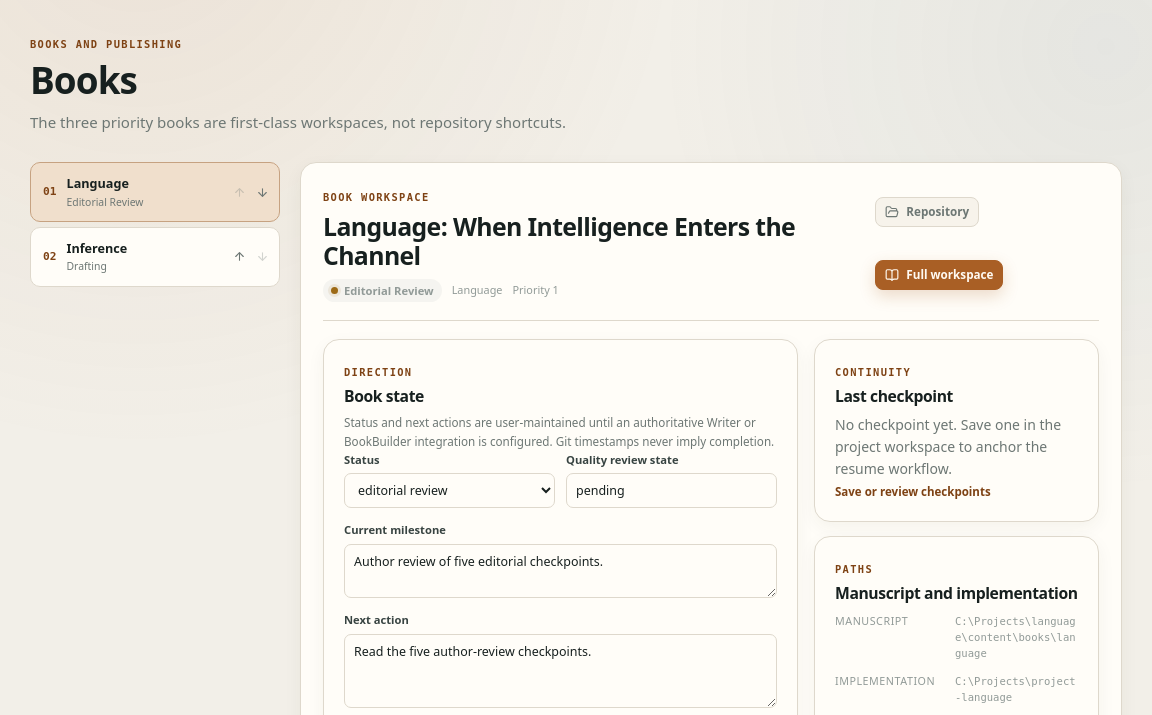
Test: BooksPage › selects a book and shows its persisted workspace
Expected: the heading "Language: When Intelligence Enters the Channel" is shown, [323,212,859,270]
Click the button with aria-label "Inference — drafting": (130,257) [35,232,224,282]
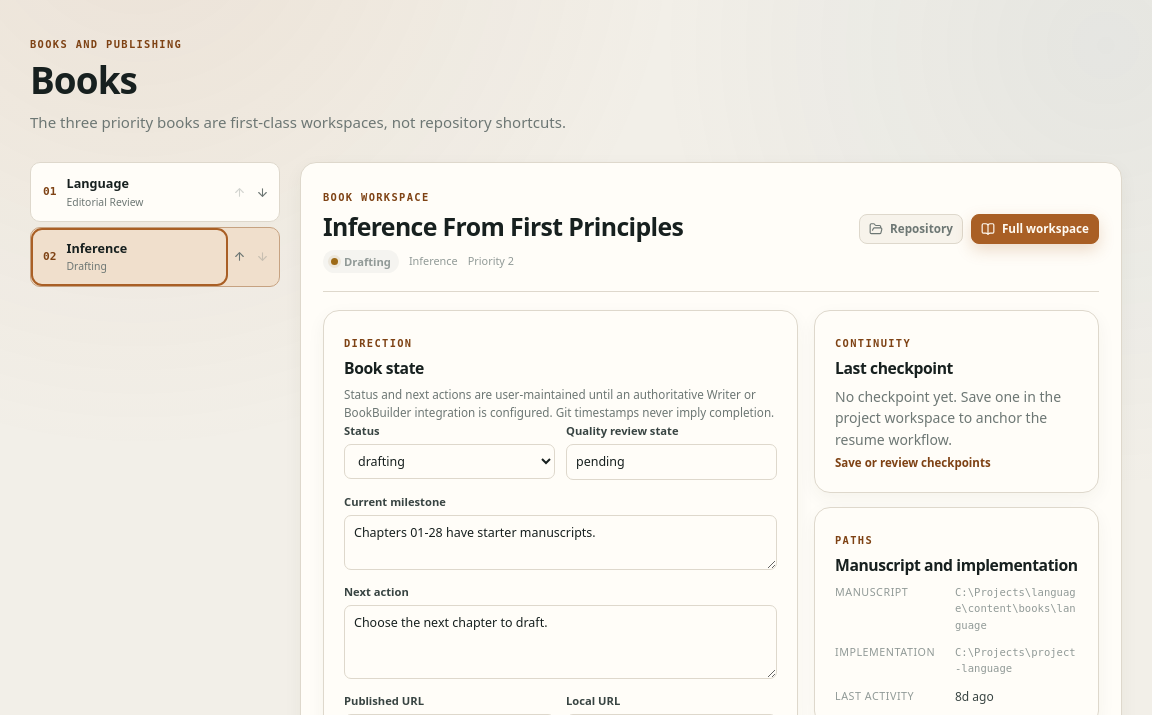
Expected: the heading "Inference From First Principles" is shown, [323,212,683,241]
Expected: the text box showing "Chapters 01-28 have starter manuscripts." is shown, [344,515,777,570]
